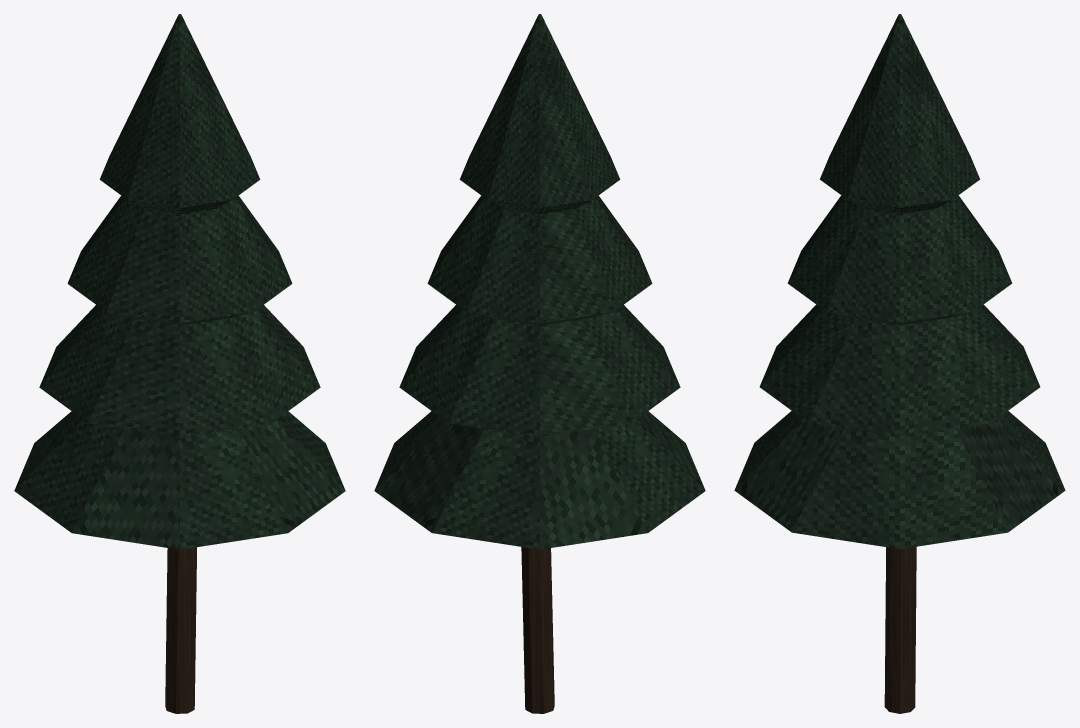
The model's file is level_tree_conifer_worn.glb.
The picture shows the model from 3 angles, left to right: view 1: azimuth 30°, elevation 25°; view 2: azimuth 150°, elevation 25°; view 3: azimuth 270°, elevation 25°; orthographic projection.
Visible parts, largest first — view 1: level_tree_conifer_worn; view 2: level_tree_conifer_worn; view 3: level_tree_conifer_worn.
Part boxes in pixels (x1,y1,x2,y2): level_tree_conifer_worn: (14, 14, 345, 713); level_tree_conifer_worn: (374, 14, 705, 713); level_tree_conifer_worn: (734, 14, 1065, 713).
Size of the model in its own units: 3.2 by 7.5 by 3.25.
Materials: 2 (2 with a texture image).
